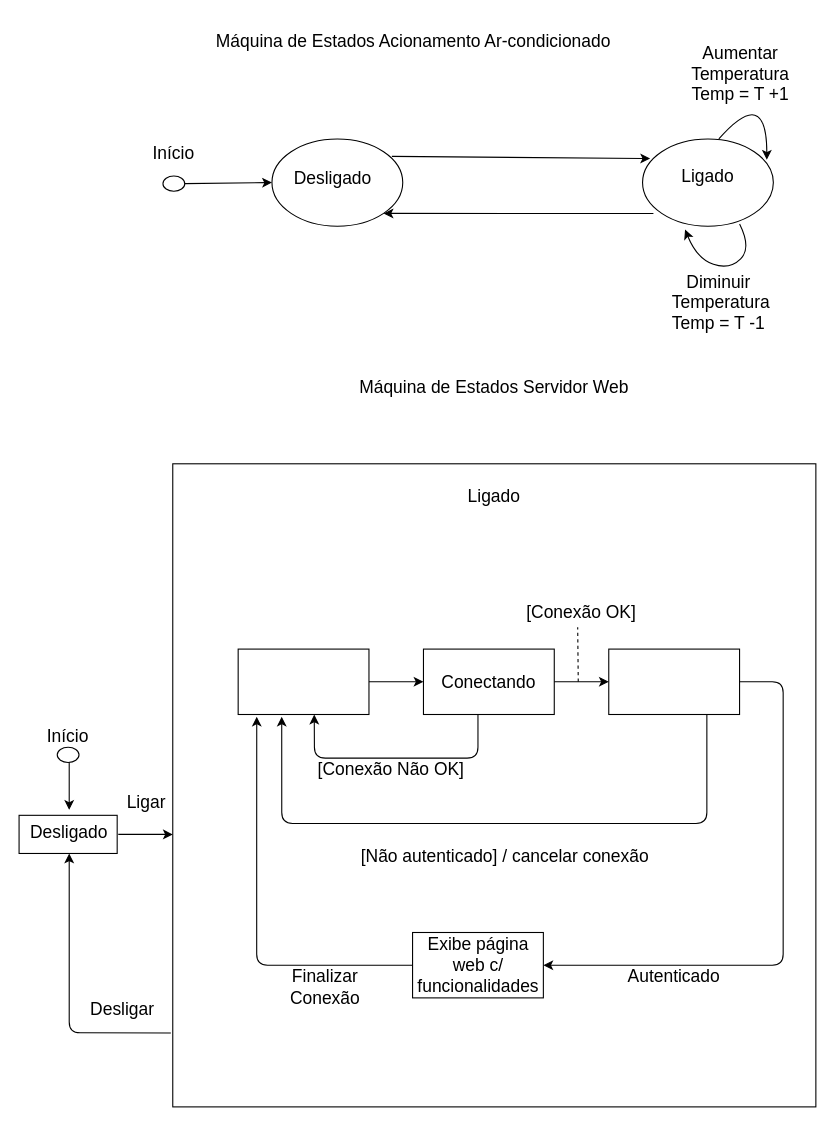
Some shapes in this 835 by 1126 pixel diagram are drawn without their labels. Here are the shapes that lost their labels. From the top down, the box of each, then its label:
(237, 648, 369, 714): Aguardando Conexão
(608, 648, 740, 714): Autenticando
